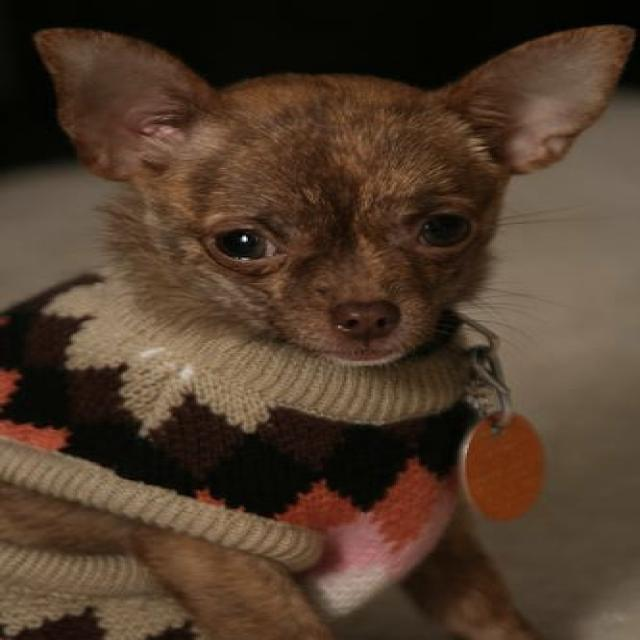chihuahua: (0, 22, 636, 638)
